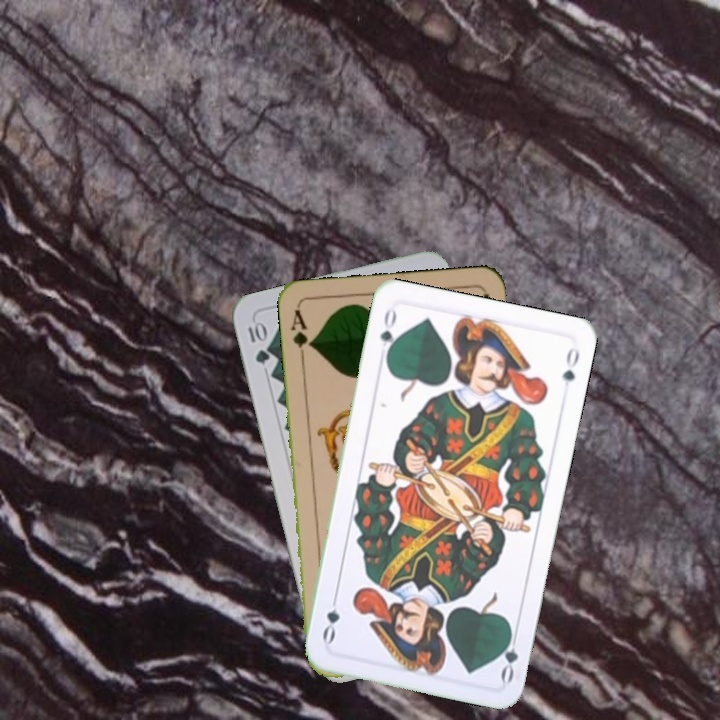G10: (244, 318, 272, 367)
GA: (286, 305, 315, 364)
GO: (495, 625, 521, 685), (375, 305, 400, 363)
